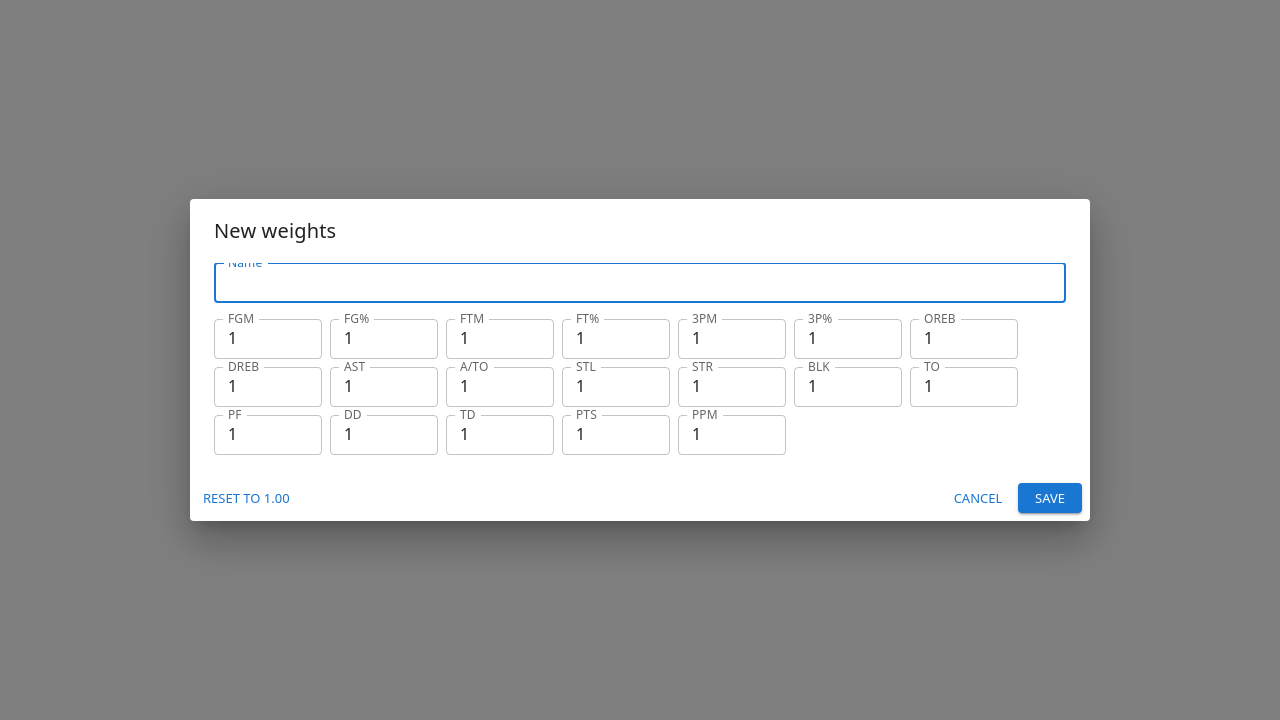
Test case: a 422 response renders its details text in the dialog
Type "Bench fouls" into the field labelled "Name" at point(640, 283), box [214,263,1066,303]
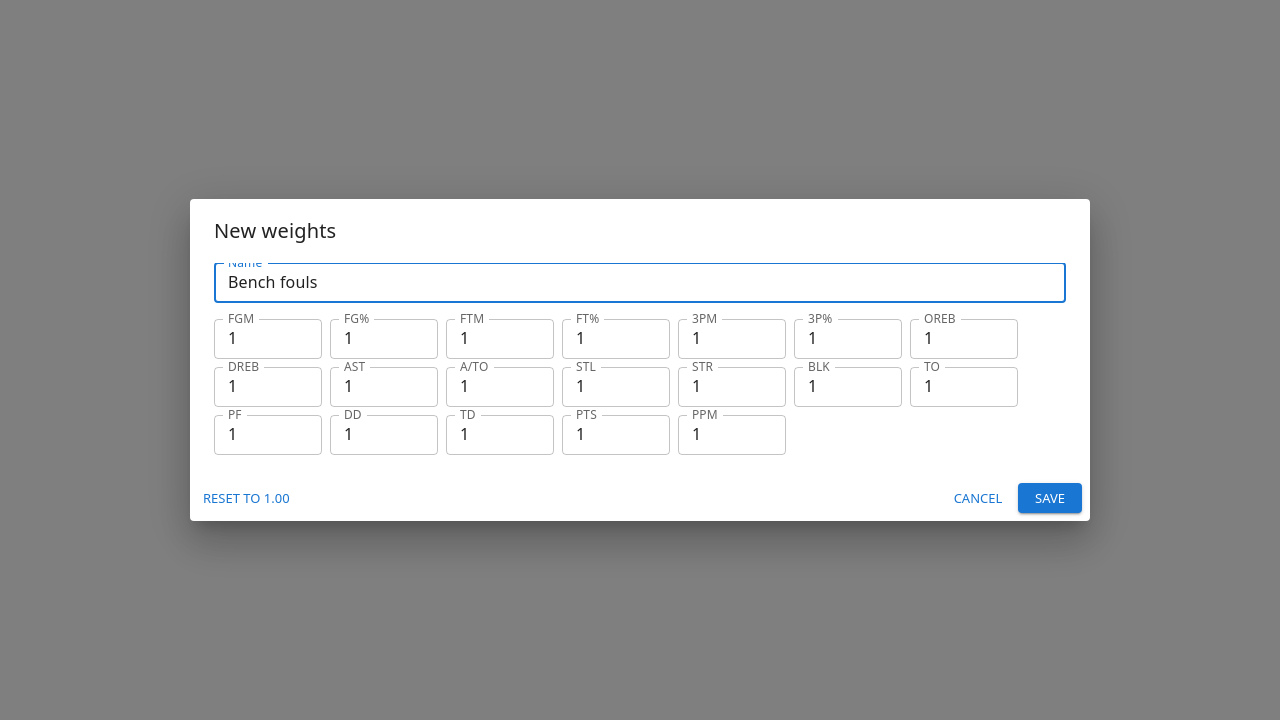
Click the button "Save" at point(1050, 498), box [1018,483,1082,513]
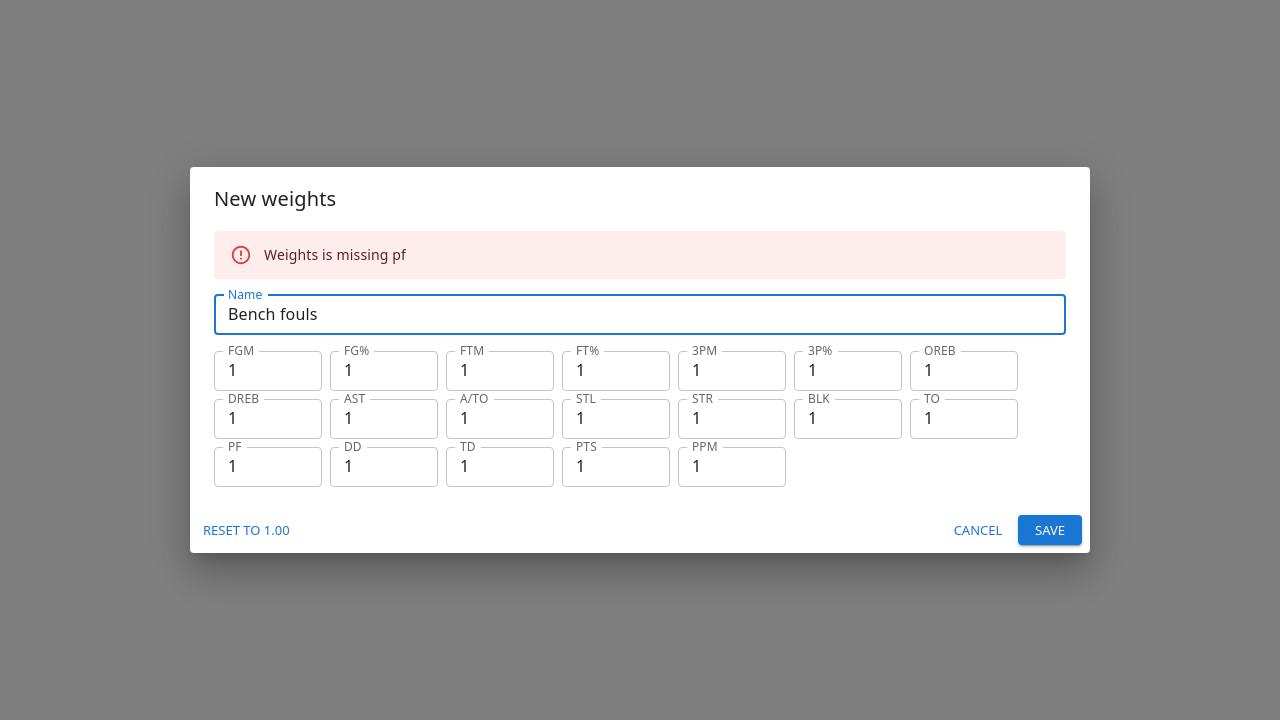
Expected: the dialog is shown, [190,167,1090,553]
Expected: the message reads "Weights is missing pf", [264,245,406,264]
